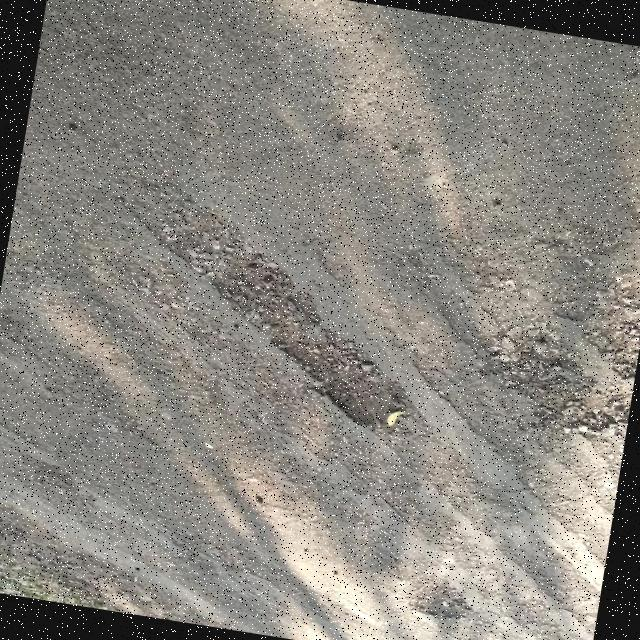Pothole: (275, 332, 408, 426)
